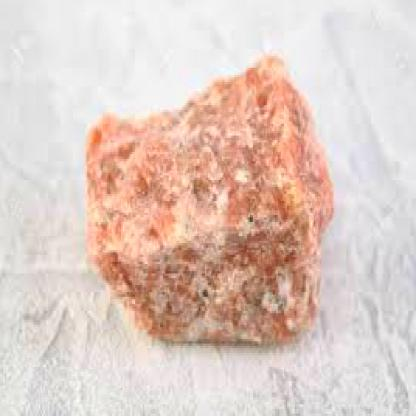Metamorphic_Marble: (74, 37, 337, 367)
